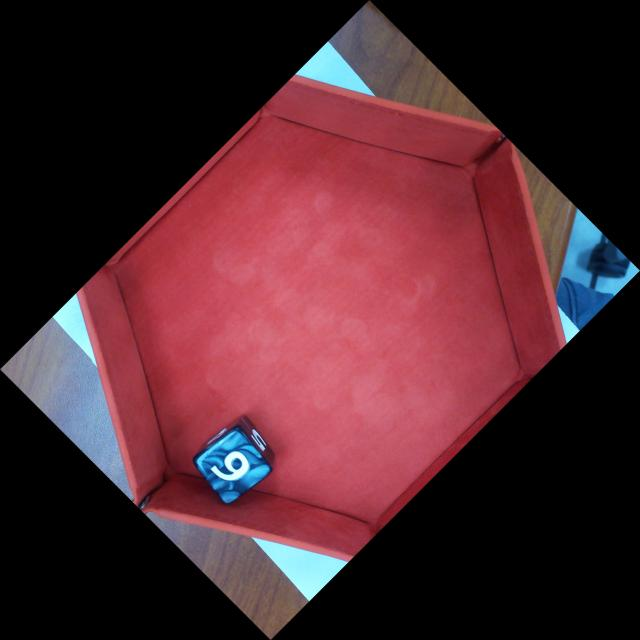dice: (190, 423, 275, 507)
